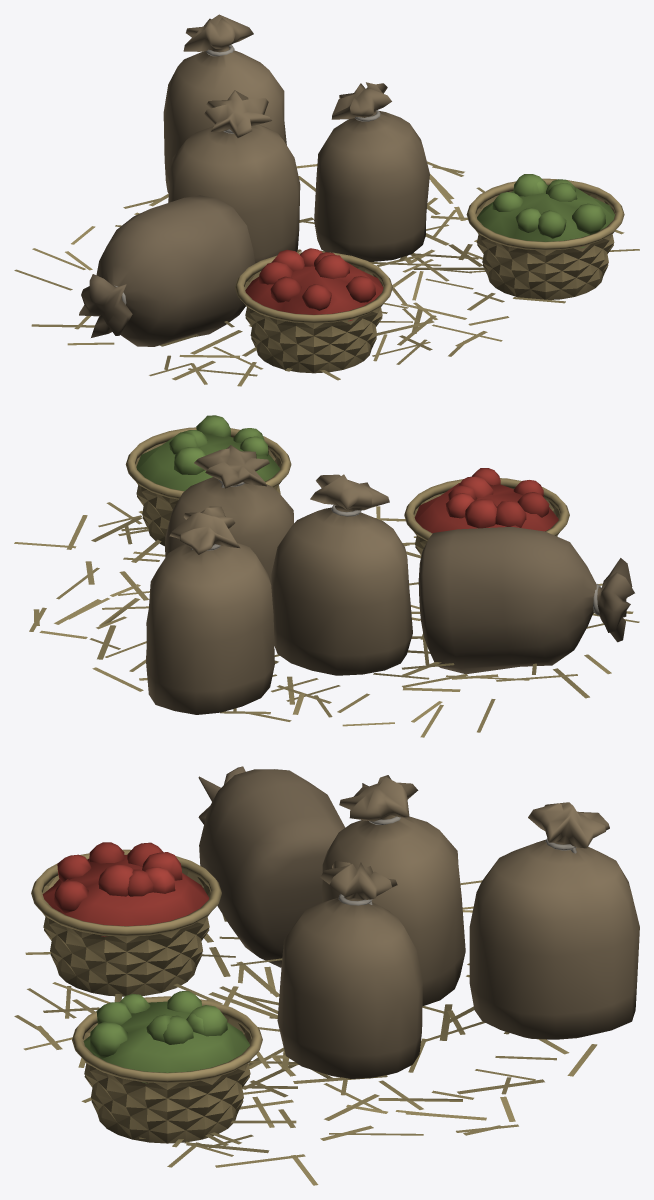
Rendered from heap_sacks.glb.
The picture shows the model from 3 angles, top to bottom: view 1: azimuth 30°, elevation 25°; view 2: azimuth 150°, elevation 25°; view 3: azimuth 270°, elevation 25°; orthographic projection. The views are drawn at different scales.
Visible parts, largest first — view 1: heap_sacks; view 2: heap_sacks; view 3: heap_sacks.
Part boxes in pixels (x1,y1,x2,y2): heap_sacks: [14, 14, 639, 386]; heap_sacks: [14, 415, 639, 737]; heap_sacks: [14, 766, 639, 1185].
Size of what is drawn, in the model's own units: 1.93 by 0.6535 by 1.53.
